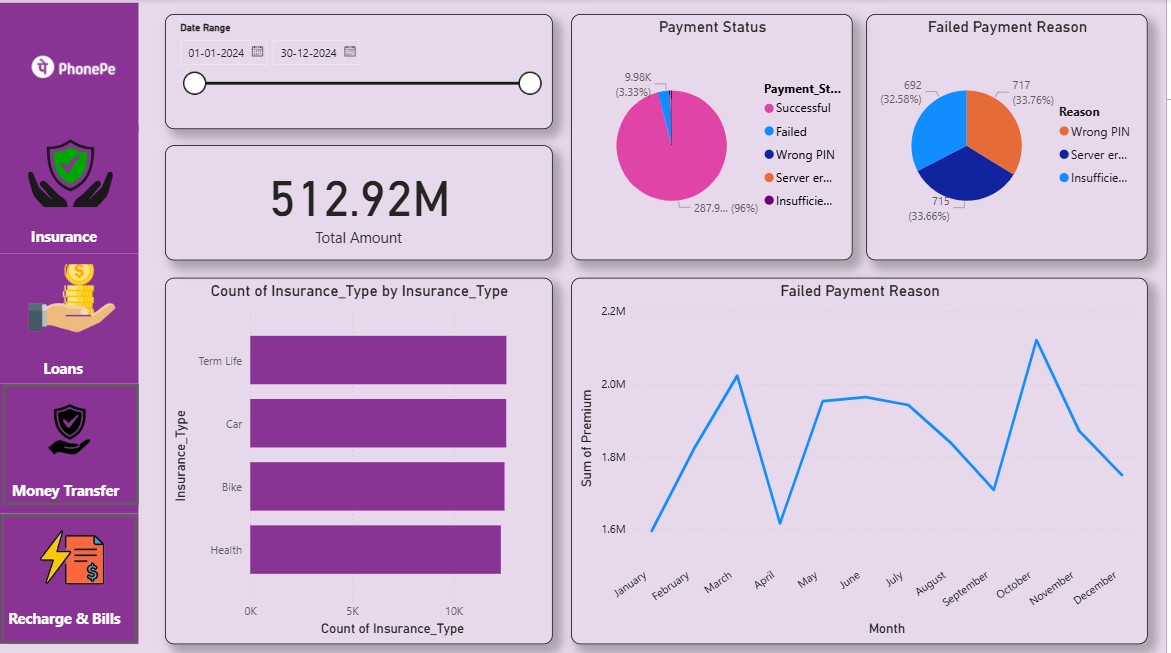

The dashboard page shown, as its layout file describes it:
{"tool":"powerbi","page":{"name":"Insurance","canvas":[1280,720],"ordinal":1},"visuals":[{"type":"slicer","fields":{"Values":["Insurance.Date"]},"box":[181.1,16.5,425.4,126.2],"z":0},{"type":"lineChart","title":"Failed Payment Reason","fields":{"Category":["Insurance.Date.Variation.Date Hierarchy.Month"],"Y":["Sum(Insurance.Premium)"]},"box":[627.1,306,632.6,402.1],"z":1000},{"type":"pieChart","title":"Failed Payment Reason","fields":{"Category":["Insurance.Reason"],"Y":["CountNonNull(Insurance.Reason)"]},"box":[950.9,16.5,308.7,270.3],"z":2000},{"type":"card","fields":{"Values":["Sum(Insurance.Premium)"]},"box":[181.1,160.5,425.4,126.2],"z":3000},{"type":"actionButton","box":[0,142.7,149.6,133.1],"z":4000},{"type":"actionButton","box":[1.4,139.2,149.6,133.1],"z":5000},{"type":"pieChart","title":"Payment Status","fields":{"Category":["All_Transactions.Payment_Status"],"Y":["CountNonNull(All_Transactions.Payment_Status)"]},"box":[627.1,16.5,308.7,270.3],"z":6000},{"type":"barChart","fields":{"Category":["Insurance.Insurance_Type"],"Y":["CountNonNull(Insurance.Insurance_Type)"]},"box":[181.1,306,425.4,402.1],"z":7000},{"type":"shape","box":[0,4.1,152.3,142.7],"z":8000},{"type":"shape","box":[0,137.3,152.3,142.7],"z":9000},{"type":"shape","box":[0,280,152.3,142.7],"z":10000},{"type":"shape","box":[0,422.7,152.3,142.7],"z":11000},{"type":"shape","box":[0,565.4,152.3,142.7],"z":12000},{"type":"image","box":[4.1,9.6,152.3,130.4],"z":13000},{"type":"image","box":[26.1,137.2,102.9,108.4],"z":14000},{"type":"image","box":[22,279.9,113.9,105.7],"z":15000},{"type":"image","box":[27.4,422.6,98.8,100.2],"z":16000},{"type":"image","box":[16.5,565.4,126.2,98.8],"z":17000},{"type":"textbox","box":[28.8,244.3,96.1,35.7],"z":18000},{"type":"textbox","box":[42.5,389.7,68.6,32.9],"z":19000},{"type":"textbox","box":[8.2,522.8,137.2,31.6],"z":20000},{"type":"textbox","box":[4.1,664.2,141.3,31.6],"z":21000},{"type":"actionButton","box":[2.7,422.6,149.6,133.1],"z":22000},{"type":"actionButton","box":[1.4,565.4,149.6,142.7],"z":23000}]}

Visuals, with their boxes on the page's 1280x720 design canvas (x1, y1, x2, y2). These are canvas units, not pixel positions in the 1171x653 screenshot, which may show the page scaled, cropped or inside an application window:
slicer - Insurance.Date: 181 16 606 143
"Failed Payment Reason" lineChart: 627 306 1260 708
"Failed Payment Reason" pieChart: 951 16 1260 287
card - Sum(Insurance.Premium): 181 160 606 287
actionButton: 0 143 150 276
actionButton: 1 139 151 272
"Payment Status" pieChart: 627 16 936 287
barChart - Insurance.Insurance_Type x CountNonNull(Insurance.Insurance_Type): 181 306 606 708
shape: 0 4 152 147
shape: 0 137 152 280
shape: 0 280 152 423
shape: 0 423 152 565
shape: 0 565 152 708
image: 4 10 156 140
image: 26 137 129 246
image: 22 280 136 386
image: 27 423 126 523
image: 16 565 143 664
textbox: 29 244 125 280
textbox: 42 390 111 423
textbox: 8 523 145 554
textbox: 4 664 145 696
actionButton: 3 423 152 556
actionButton: 1 565 151 708
